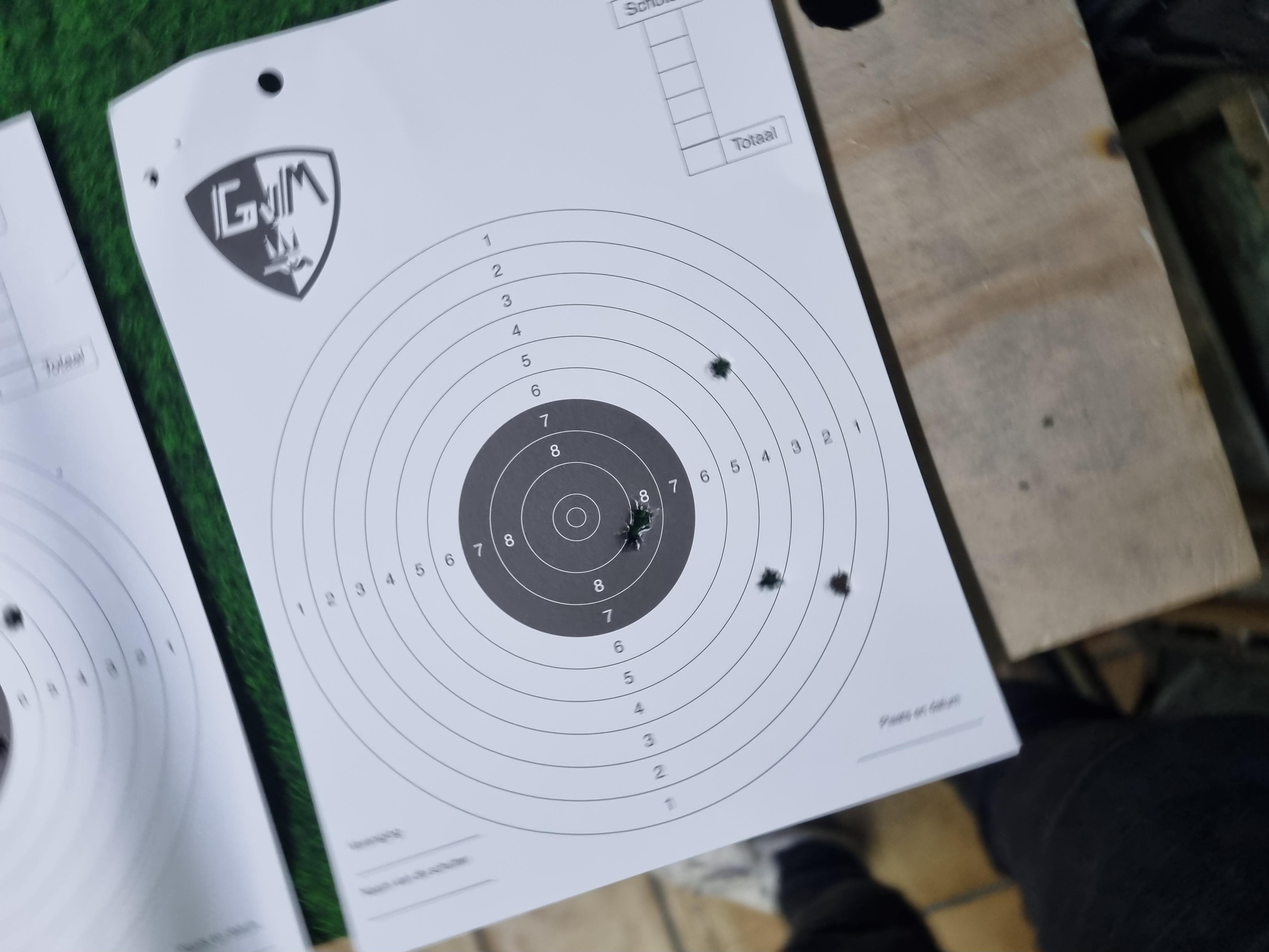hole: (533, 461, 568, 487), (568, 470, 603, 493), (479, 568, 514, 588), (472, 621, 514, 637), (427, 2, 463, 19), (761, 532, 795, 549)
